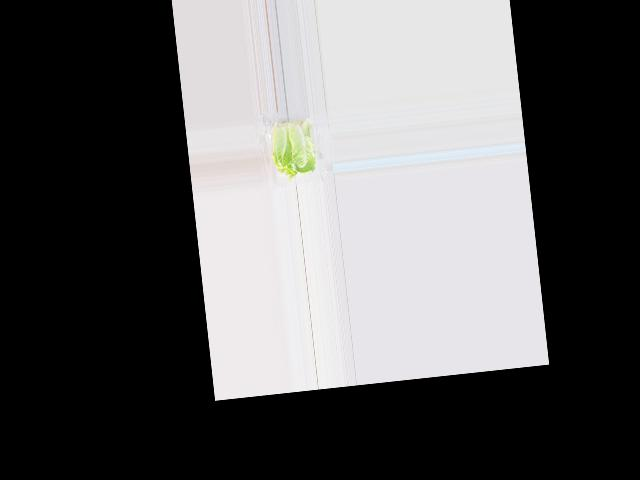lettuce: (268, 120, 317, 181)
